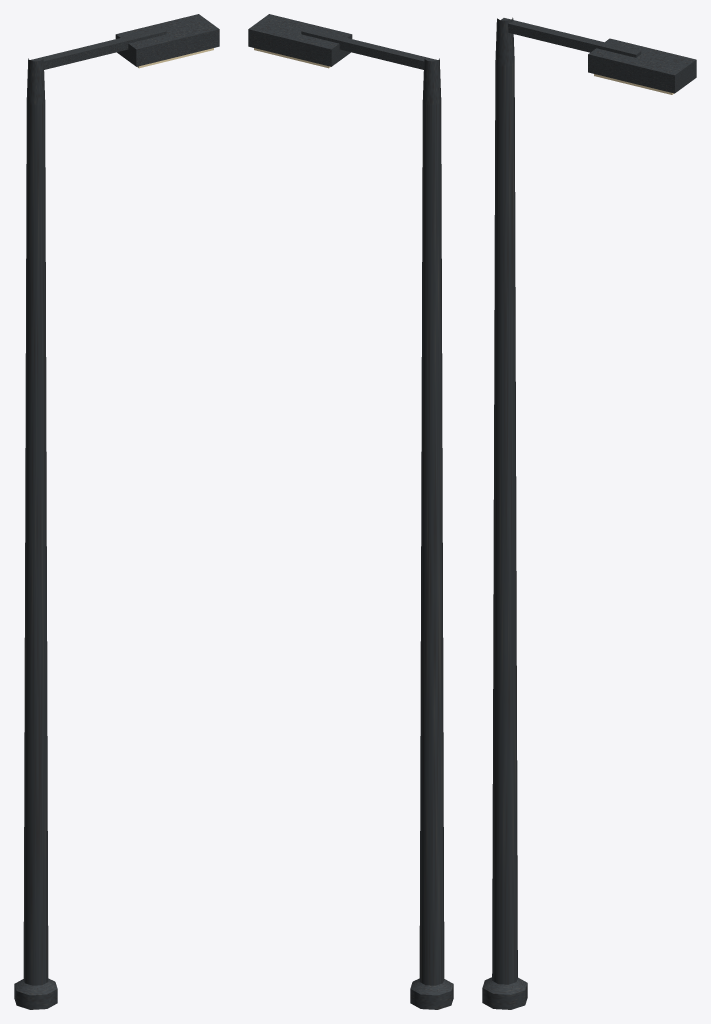
Rendered from leuchte_m1.glb.
3 views of the same model, side by side, from view 1: azimuth 30°, elevation 25°; view 2: azimuth 150°, elevation 25°; view 3: azimuth 330°, elevation 25° (orthographic). The views are drawn at different scales.
Parts seen in each view (by area): view 1: M1; view 2: M1; view 3: M1.
Part boxes in pixels (left/top/right/bottom): M1: left=14, top=14, right=219, bottom=1009; M1: left=248, top=14, right=453, bottom=1009; M1: left=482, top=17, right=696, bottom=1009.
Size of the model in its own units: 1.39 by 6.5 by 0.28.
1 material, 1 textured.
